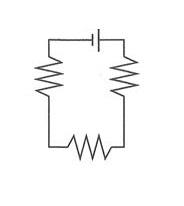resistor: (102, 47, 143, 101), (59, 128, 114, 165), (31, 50, 66, 103)
